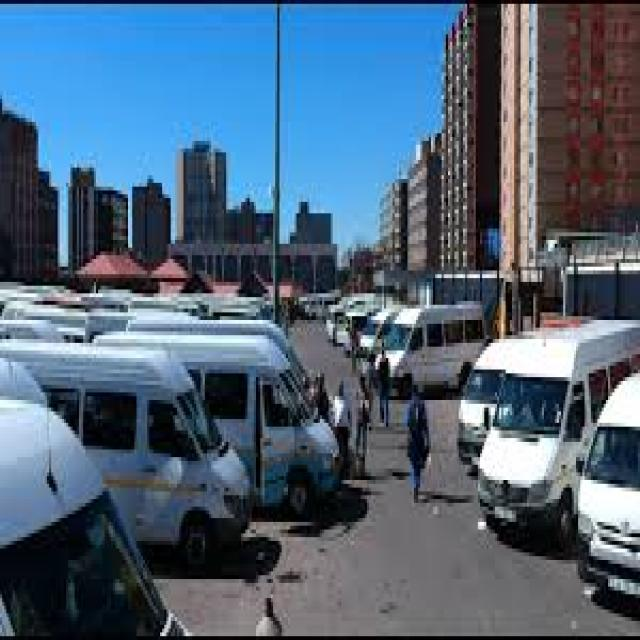MiniBus taxi: (474, 350, 578, 541), (171, 362, 256, 571), (574, 381, 640, 598), (278, 354, 344, 507), (454, 343, 504, 476)
Pedestrians: (401, 381, 435, 507)
